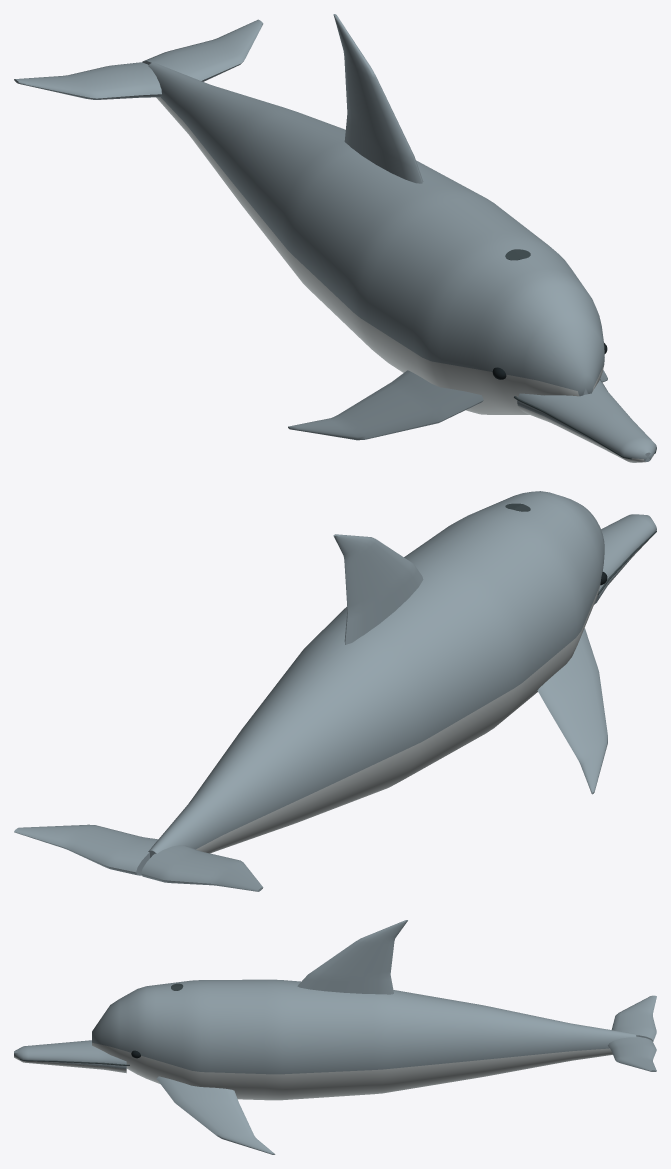
The picture shows the model from 3 angles, top to bottom: view 1: azimuth 30°, elevation 25°; view 2: azimuth 150°, elevation 25°; view 3: azimuth 270°, elevation 25°; orthographic projection. The views are drawn at different scales.
Visible parts, largest first — view 1: Body_complete_melon_belly_peduncle, Left_pectoral_flipper, Single_falcate_dorsal_fin, Short_rounded_rostrum, Left_horizontal_tail_fluke, Right_horizontal_tail_fluke; view 2: Body_complete_melon_belly_peduncle, Single_falcate_dorsal_fin, Left_pectoral_flipper, Right_horizontal_tail_fluke, Left_horizontal_tail_fluke, Short_rounded_rostrum; view 3: Body_complete_melon_belly_peduncle, Single_falcate_dorsal_fin, Right_pectoral_flipper, Short_rounded_rostrum, Left_horizontal_tail_fluke, Right_horizontal_tail_fluke.
Part boxes in pixels (x1,y1,x2,y2): Body_complete_melon_belly_peduncle: (148,62,604,414); Left_pectoral_flipper: (288,370,483,440); Single_falcate_dorsal_fin: (333,14,423,183); Short_rounded_rostrum: (517,380,656,462); Left_horizontal_tail_fluke: (14,62,161,99); Right_horizontal_tail_fluke: (142,19,263,81); Body_complete_melon_belly_peduncle: (148,491,604,857); Single_falcate_dorsal_fin: (333,534,423,644); Left_pectoral_flipper: (537,628,607,794); Right_horizontal_tail_fluke: (14,824,157,875); Left_horizontal_tail_fluke: (141,845,263,891); Short_rounded_rostrum: (594,514,656,604); Body_complete_melon_belly_peduncle: (92,979,636,1100); Single_falcate_dorsal_fin: (297,920,407,994); Right_pectoral_flipper: (156,1076,275,1154); Short_rounded_rostrum: (14,1040,126,1073); Left_horizontal_tail_fluke: (611,995,656,1041); Right_horizontal_tail_fluke: (608,1036,656,1071).
Size of the model in its own units: 0.96 by 0.903 by 2.8.
